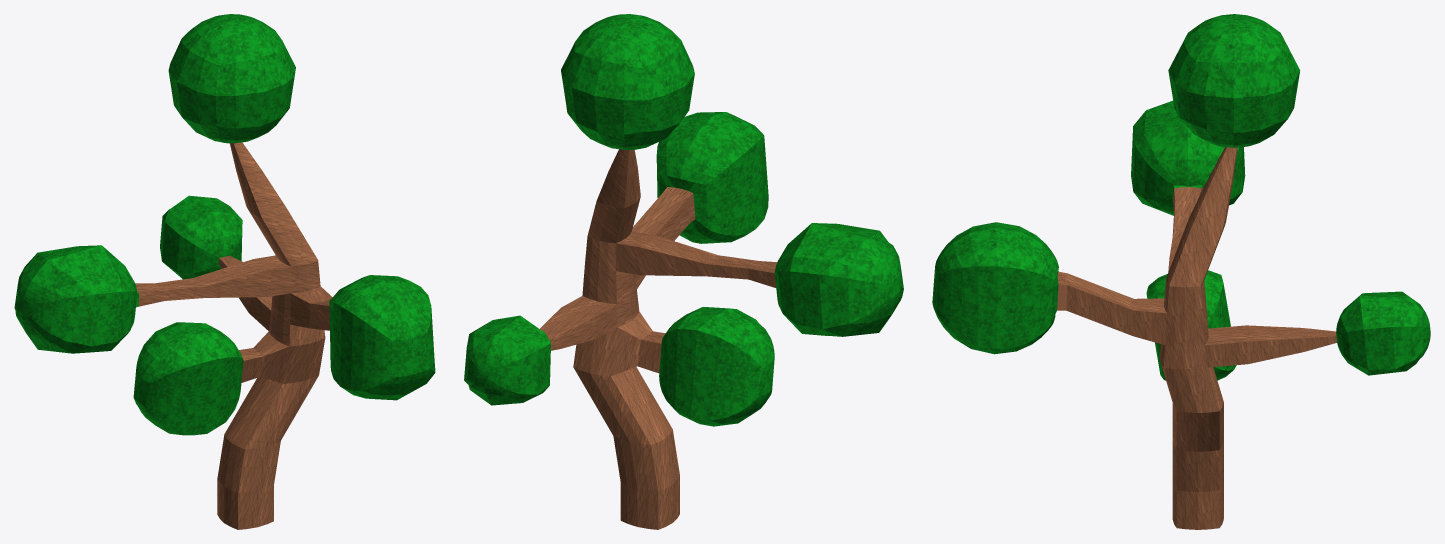
The model's file is environment.glb.
3 renders of one model, left to right at view 1: azimuth 30°, elevation 25°; view 2: azimuth 150°, elevation 25°; view 3: azimuth 270°, elevation 25°, orthographic. The views are drawn at different scales.
Visible parts, largest first — view 1: big tree; view 2: big tree; view 3: big tree.
Boxes of the visible parts, bbox=[...] form: big tree: bbox=[14, 14, 435, 529]; big tree: bbox=[464, 14, 903, 529]; big tree: bbox=[932, 14, 1430, 529].
Bounding box in the file's own units: 131 × 197 × 177.
8 materials, 8 textured.
